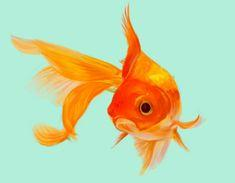goldfish: (34, 34, 212, 166)
